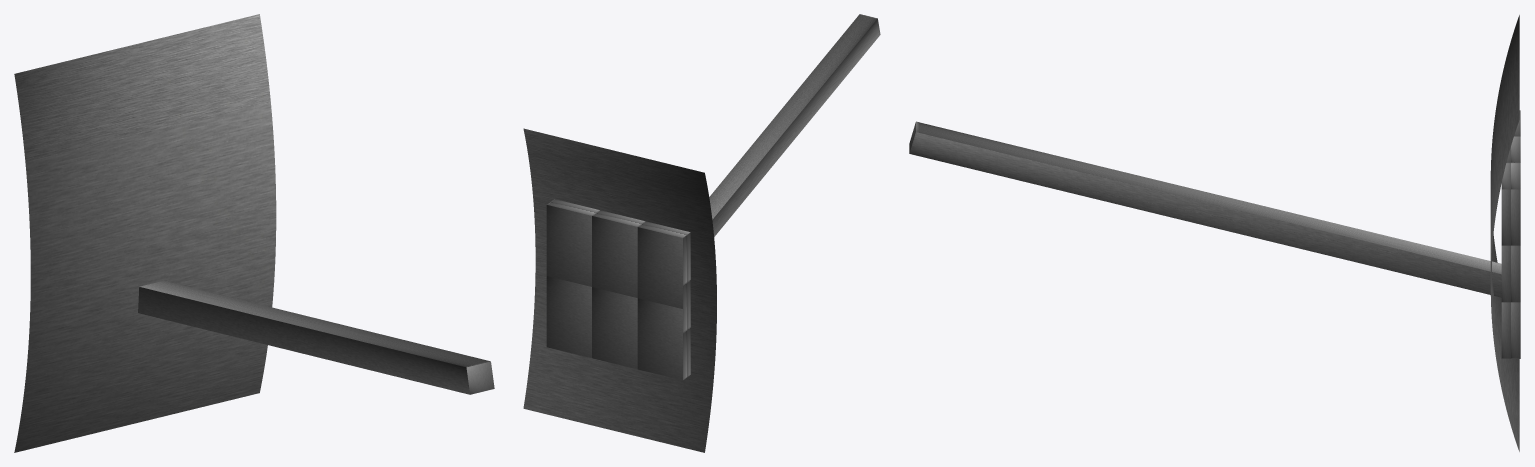
File: wine_rack_stand.obj
The picture shows the model from 3 angles, left to right: view 1: azimuth 30°, elevation 25°; view 2: azimuth 150°, elevation 25°; view 3: azimuth 270°, elevation 25°; orthographic projection. The views are drawn at different scales.
Parts seen in each view (by area): view 1: WineRackBasic; view 2: WineRackBasic; view 3: WineRackBasic.
Boxes of the visible parts, box(x1,y1,x2,y2) form: WineRackBasic: box(14, 14, 494, 452); WineRackBasic: box(523, 14, 880, 452); WineRackBasic: box(909, 15, 1520, 451).
Size of the model in its own units: 40 by 59.03 by 97.99.
